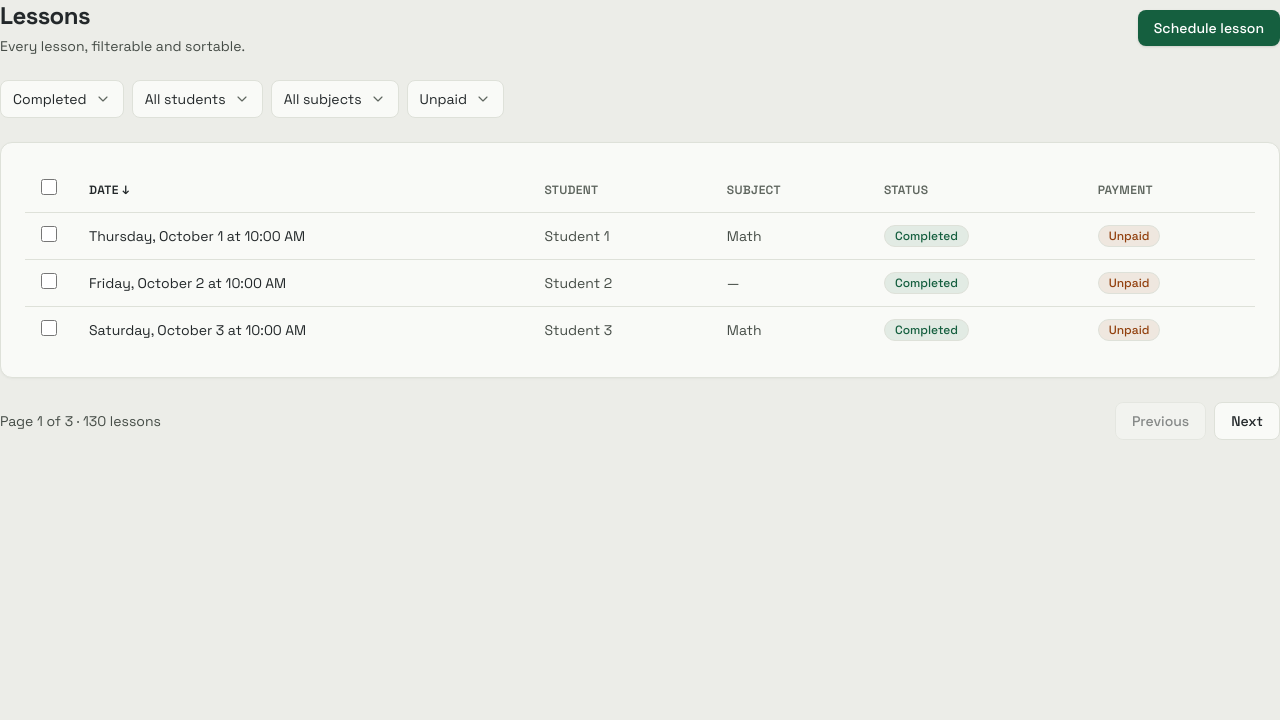
Test: LessonsListView select all matching › confirms before updating and sends filters plus the expected count, not ids
Click the checkbox named "Select all visible lessons" at (49, 187), box [41, 179, 57, 195]
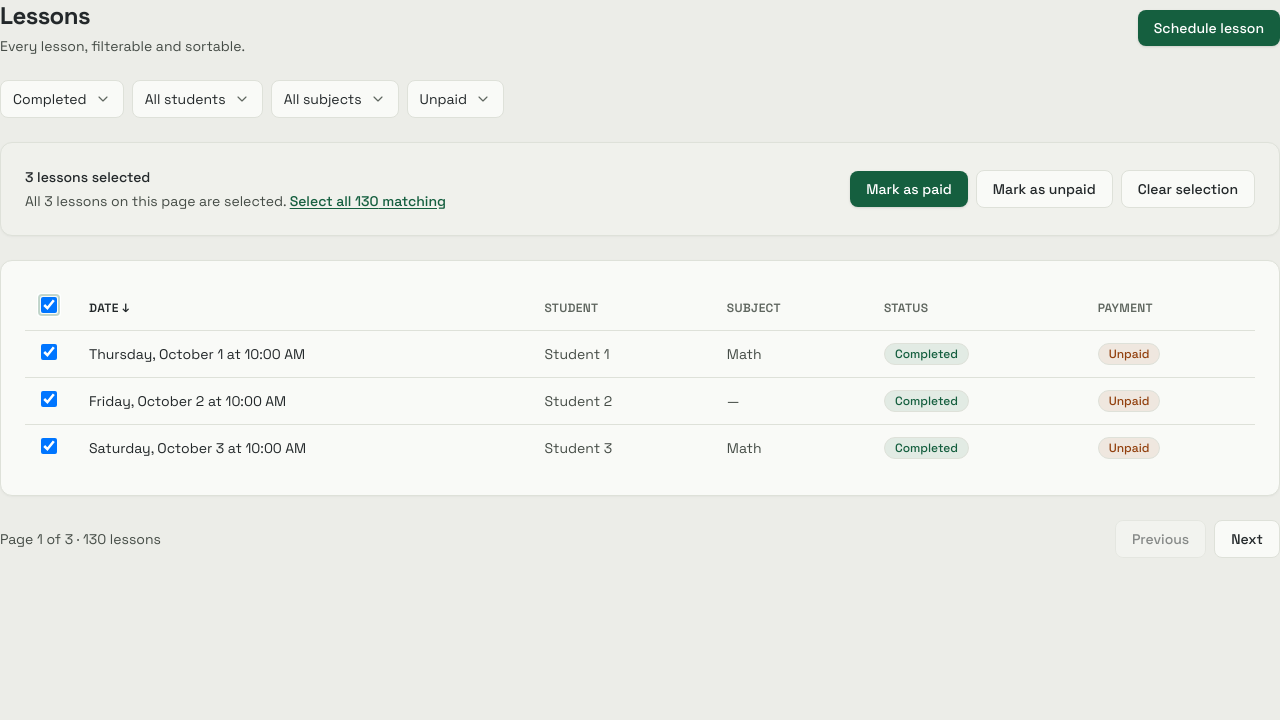
Click the button "Select all 130 matching" at (368, 201), box [290, 191, 446, 211]
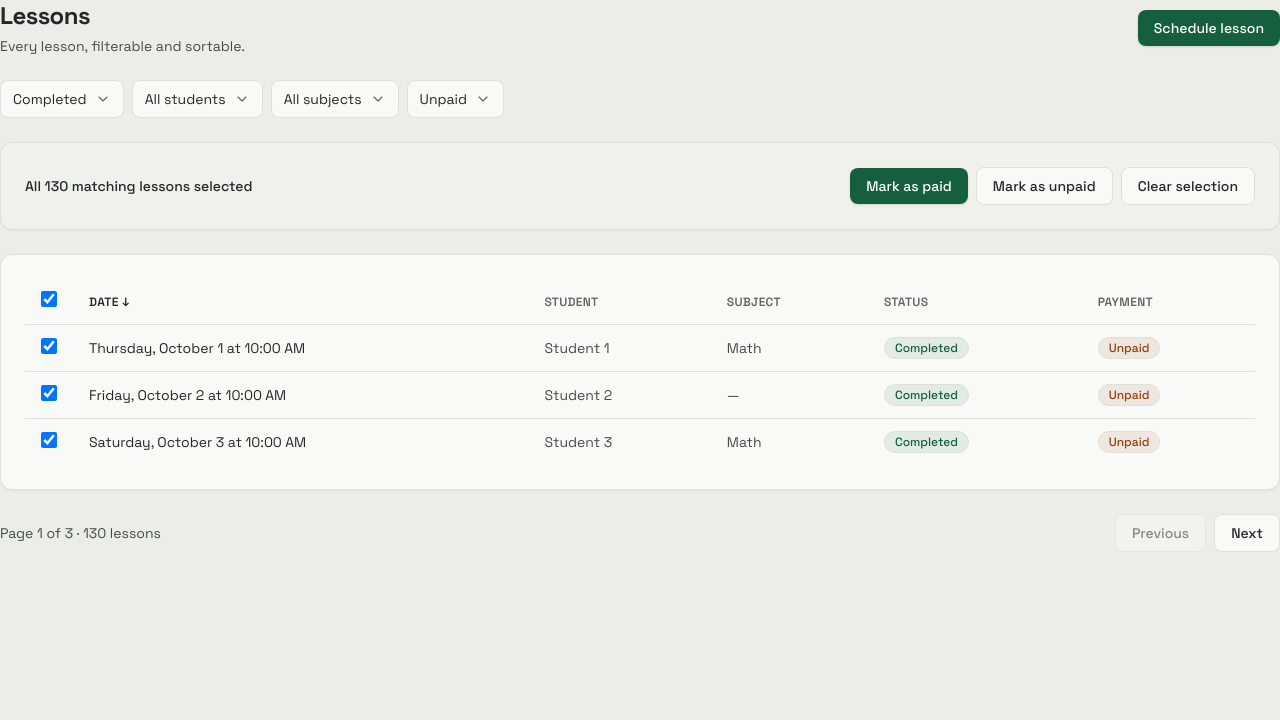
Click the button "Mark as paid" at (909, 186), box [850, 168, 968, 204]
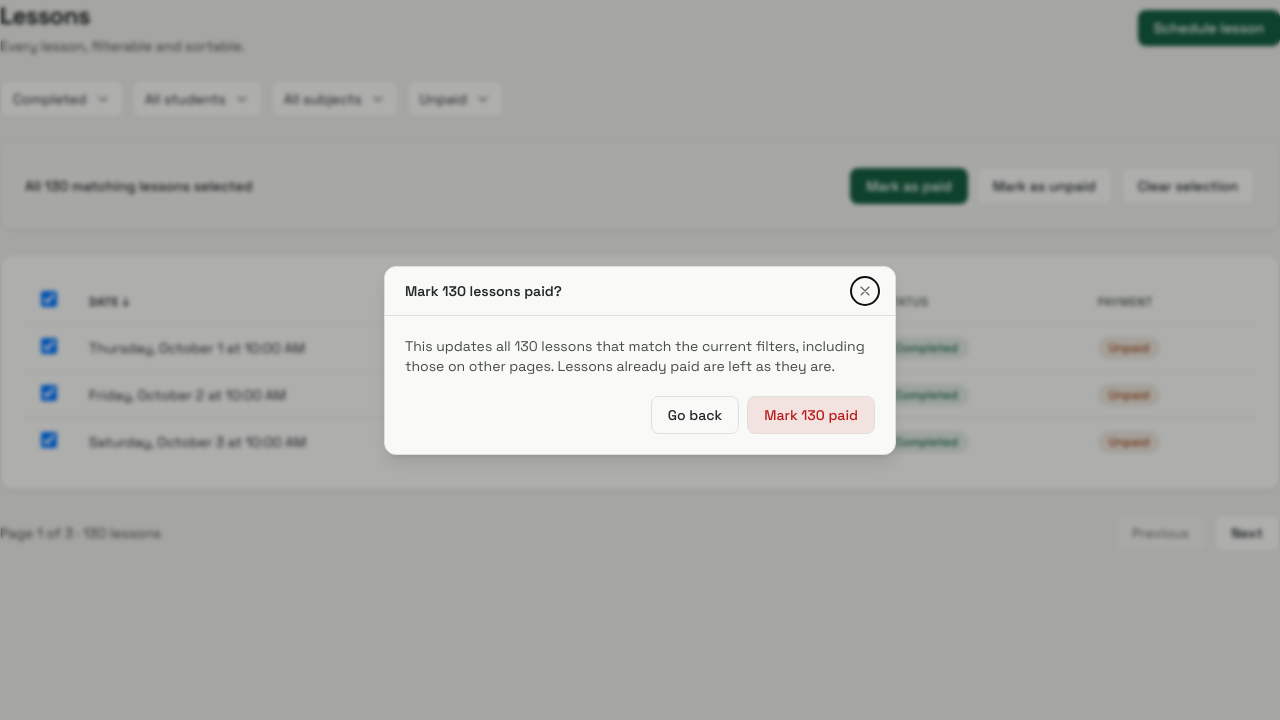
Check: the heading "Mark 130 lessons paid?" is shown, box [405, 280, 562, 300]
Check: the text "including those on other pages" is shown, box [405, 336, 865, 374]
Click the button "Mark 130 paid" at (811, 414), box [747, 396, 875, 434]
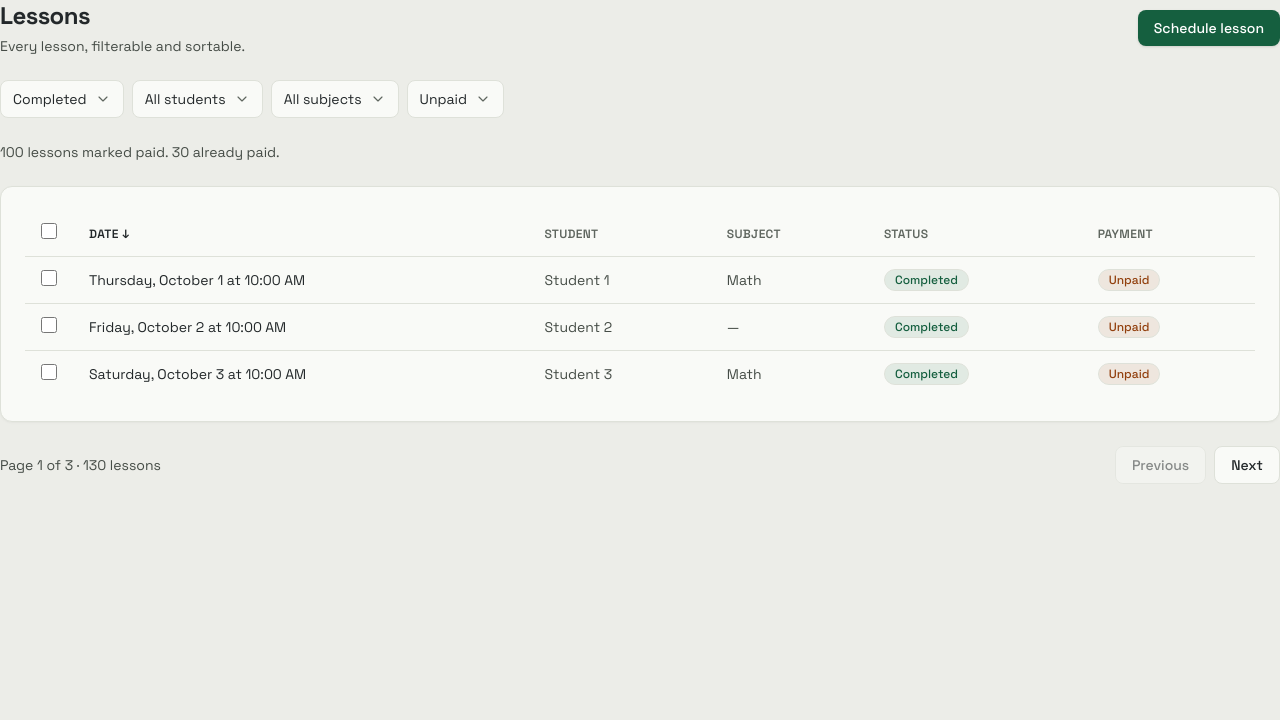
Check: the message reads "100 lessons marked paid. 30 already paid.", box [0, 143, 280, 161]
Check: the text "All 130 matching lessons selected" is gone
